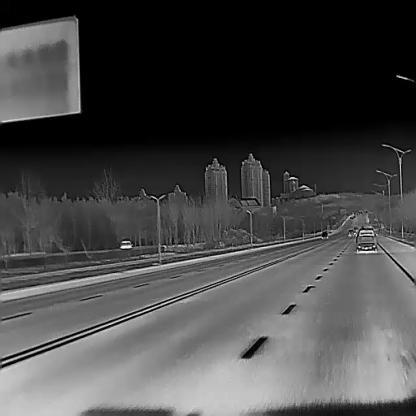car: (356, 227, 377, 251), (120, 240, 133, 250), (347, 228, 354, 236), (321, 230, 328, 237)
